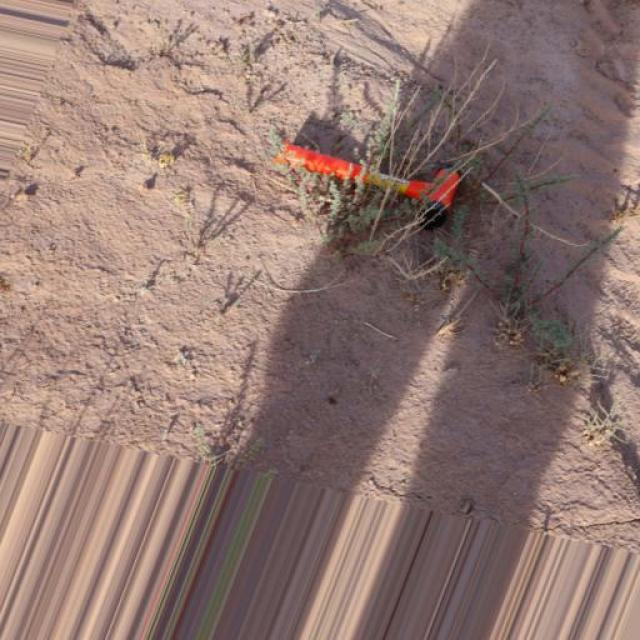mallet: (272, 136, 463, 229)
